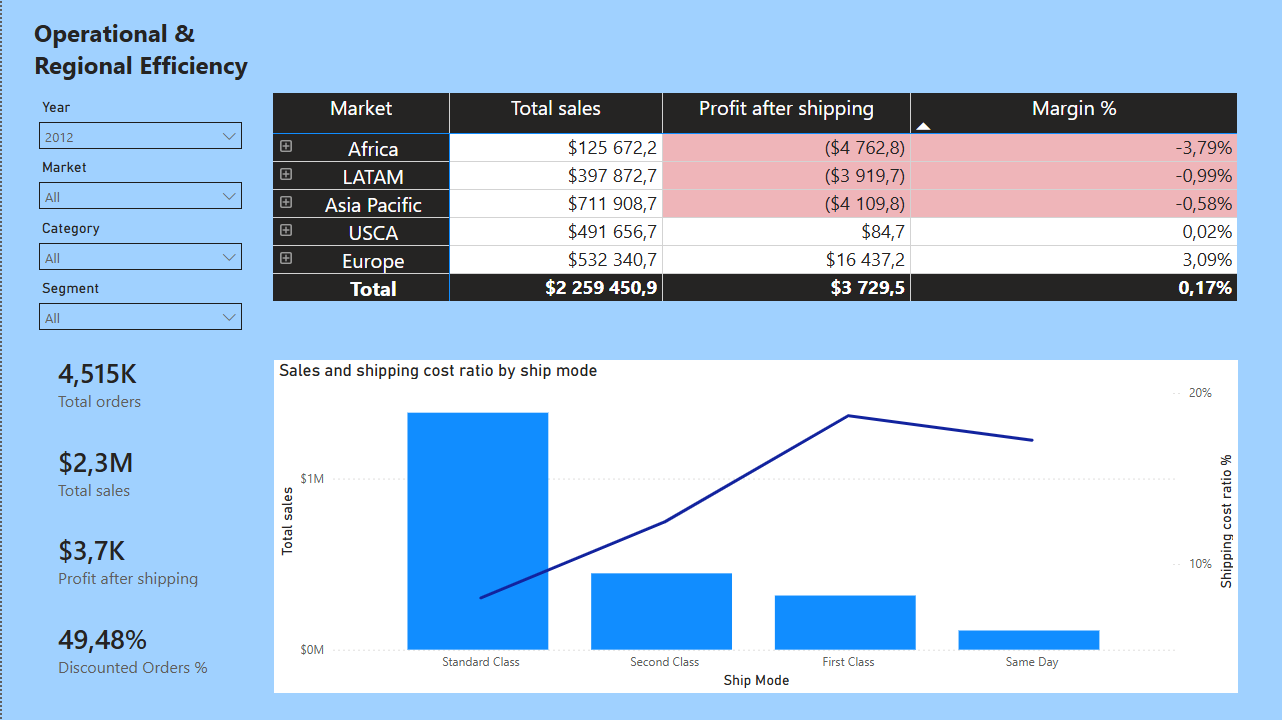

The page's visual inventory and layout, read from the dashboard file:
{"tool":"powerbi","page":{"name":"Page 4. Regional efficiency","canvas":[1280,720],"ordinal":3},"visuals":[{"type":"group","id":"g1","title":"Group 3","box":[26.6,94,239.4,598.5],"z":0},{"type":"slicer","fields":{"Values":["Calendar.Year"]},"box":[26.6,94,222.6,60.3],"z":0,"group":"g3"},{"type":"textbox","box":[26.6,10.6,259.8,77.1],"z":1000},{"type":"slicer","fields":{"Values":["Dim_Adress.Market"]},"box":[26.6,154.3,222.6,60.3],"z":1000,"group":"g3"},{"type":"pivotTable","fields":{"Rows":["Dim_Adress.Market","Dim_SalesReps.Person","Dim_SalesReps.Region"],"Values":["_mesures.Ttl_sales","_mesures.Profit_after_shipping","_mesures.Profit_margin_%"]},"box":[266,87.8,977.1,247.4],"z":2000},{"type":"slicer","fields":{"Values":["Dim_Product.Category"]},"box":[26.6,214.6,222.6,60.3],"z":2000,"group":"g3"},{"type":"group","id":"g2","title":"Group 1","box":[26.6,338.7,239.4,353.8],"z":2000,"group":"g1"},{"type":"cardVisual","fields":{"Data":["Count(Fact_Orders.Order ID)"]},"box":[26.6,338.7,239.4,88.4],"z":2000,"group":"g2"},{"type":"group","id":"g3","title":"Group 2","box":[26.6,94,222.6,241.2],"z":3000,"group":"g1"},{"type":"slicer","fields":{"Values":["Dim_Product.Sub-Category"]},"box":[26.6,274.9,222.6,60.3],"z":3000,"group":"g3"},{"type":"lineStackedColumnComboChart","title":"Sales and shipping cost ratio by ship mode","fields":{"Category":["Fact_Orders.Ship Mode"],"Y":["_mesures.Ttl_sales"],"Y2":["_mesures.Shipping cost ratio %"]},"box":[272.2,360,963.8,332.5],"z":3000},{"type":"cardVisual","fields":{"Data":["_mesures.Ttl_sales"]},"box":[26.6,427.1,239.4,88.4],"z":3000,"group":"g2"},{"type":"cardVisual","fields":{"Data":["_mesures.Profit_after_shipping"]},"box":[26.6,515.6,239.4,88.4],"z":4000,"group":"g2"},{"type":"cardVisual","fields":{"Data":["_mesures.Discounted Orders %"]},"box":[26.6,604,222.9,88.4],"z":5000,"group":"g2"}]}

Visuals, with their boxes in screenshot pixels (x1, y1, x2, y2), scaled from the page's 1280x720 canvas onto the 1282x720 screenshot:
"Group 3" group: bbox=(27, 94, 266, 692)
slicer - Calendar.Year: bbox=(27, 94, 250, 154)
textbox: bbox=(27, 11, 287, 88)
slicer - Dim_Adress.Market: bbox=(27, 154, 250, 215)
pivotTable - Dim_Adress.Market x Dim_SalesReps.Person: bbox=(266, 88, 1245, 335)
slicer - Dim_Product.Category: bbox=(27, 215, 250, 275)
"Group 1" group: bbox=(27, 339, 266, 692)
cardVisual - Count(Fact_Orders.Order ID): bbox=(27, 339, 266, 427)
"Group 2" group: bbox=(27, 94, 250, 335)
slicer - Dim_Product.Sub-Category: bbox=(27, 275, 250, 335)
"Sales and shipping cost ratio by ship mode" lineStackedColumnComboChart: bbox=(273, 360, 1238, 692)
cardVisual - _mesures.Ttl_sales: bbox=(27, 427, 266, 516)
cardVisual - _mesures.Profit_after_shipping: bbox=(27, 516, 266, 604)
cardVisual - _mesures.Discounted Orders %: bbox=(27, 604, 250, 692)
